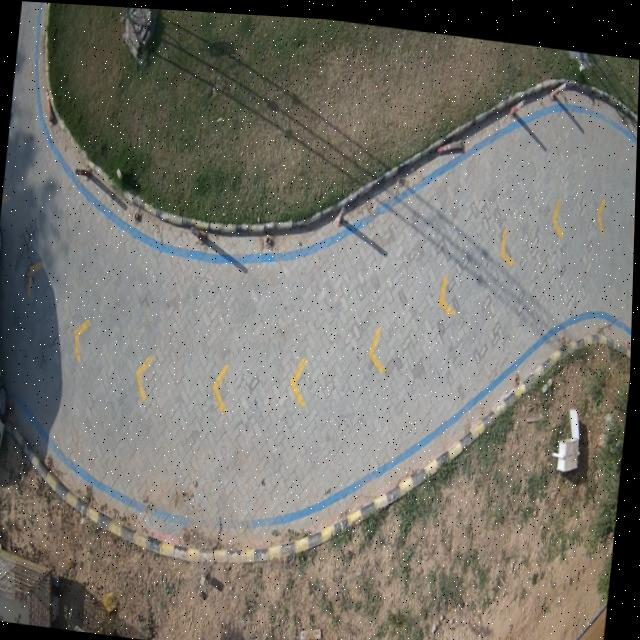car: (0, 335, 9, 452)
